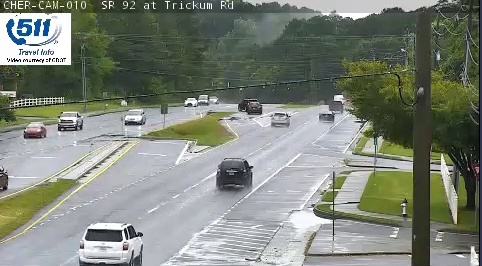car: (79, 223, 143, 266), (217, 159, 252, 186), (271, 112, 290, 126), (318, 111, 334, 122)
